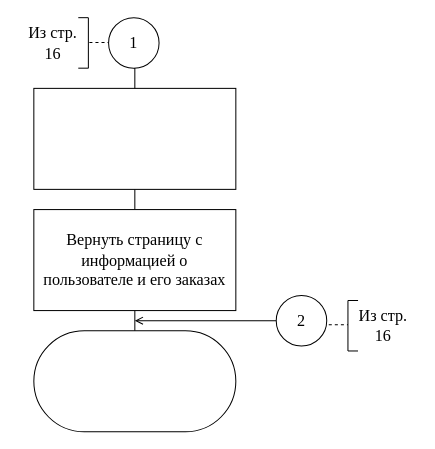
Some shapes in this 435 by 449 pixel diagram are drawn without their labels. Each missing label, with the centre of its shape:
Выход makeOrder (user, cart): pixel 134 381
Обновить баланс пользователя в базе данных: pixel 134 138
